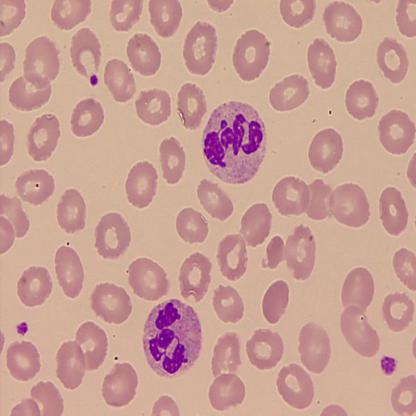Segmented neutrophil: (200, 99, 268, 184), (142, 296, 205, 379)
